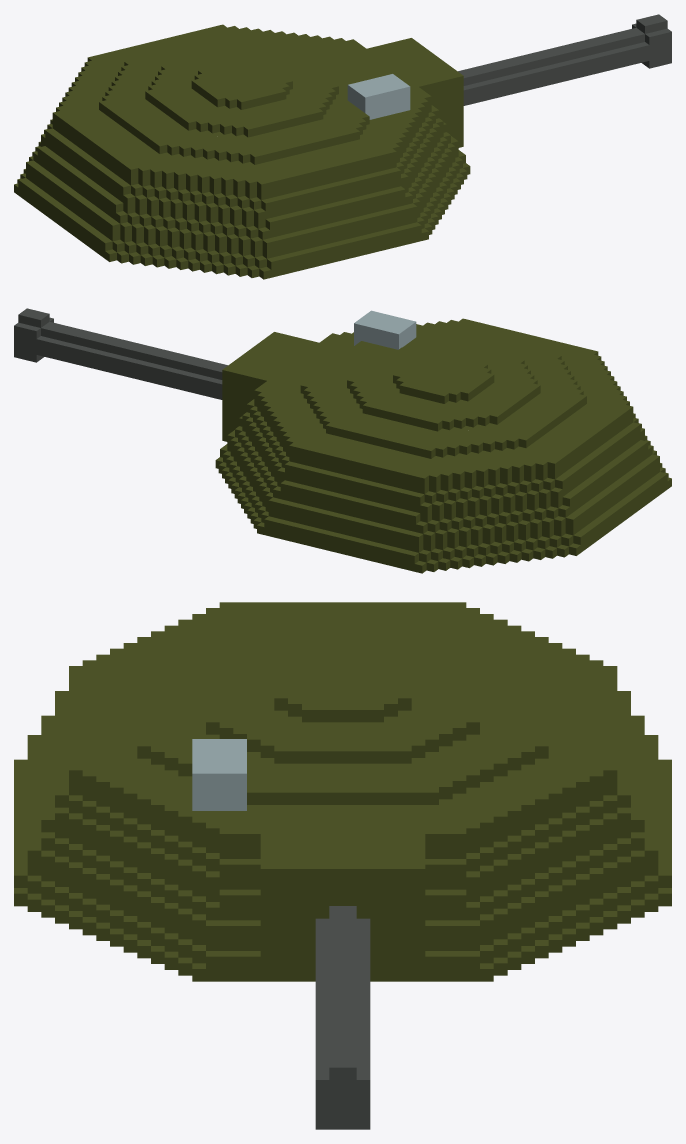
File: apc_turret.glb
3 views of the same model, one above another, from view 1: azimuth 30°, elevation 25°; view 2: azimuth 150°, elevation 25°; view 3: azimuth 270°, elevation 25° (orthographic). The views are drawn at different scales.
Parts seen in each view (by area): view 1: body:compound; view 2: body:compound; view 3: body:compound.
Boxes of the visible parts, x1,y1,x2,y2 form: body:compound: [14, 14, 671, 279]; body:compound: [14, 308, 671, 573]; body:compound: [14, 602, 671, 1129].
Bounding box in the file's own units: 2.5 × 0.4062 × 1.5.
